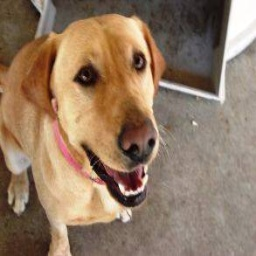dog: (1, 14, 164, 246)
